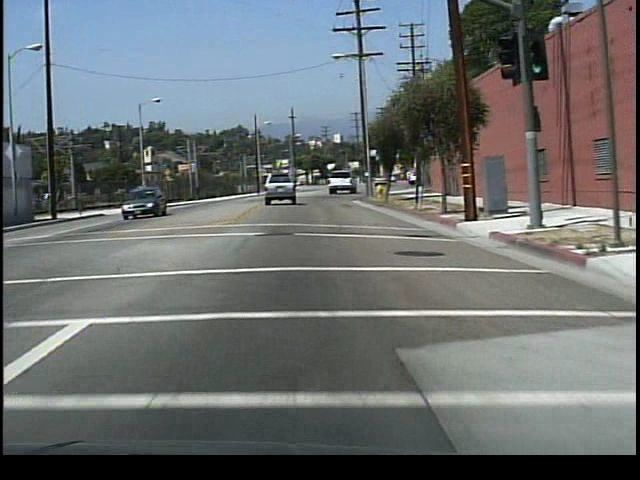person: (193, 182, 205, 203)
